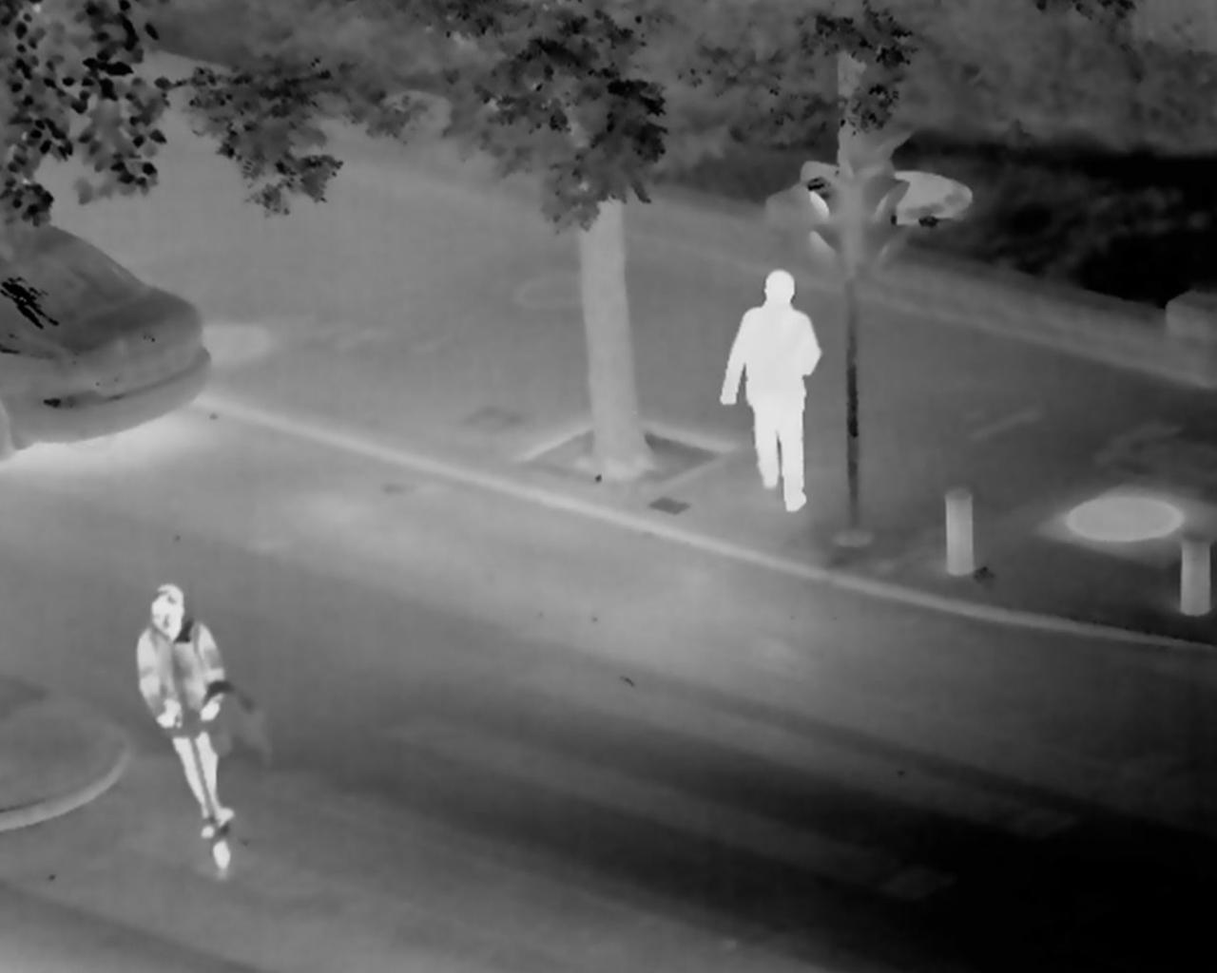person: (110, 578, 251, 853), (719, 258, 820, 513)
